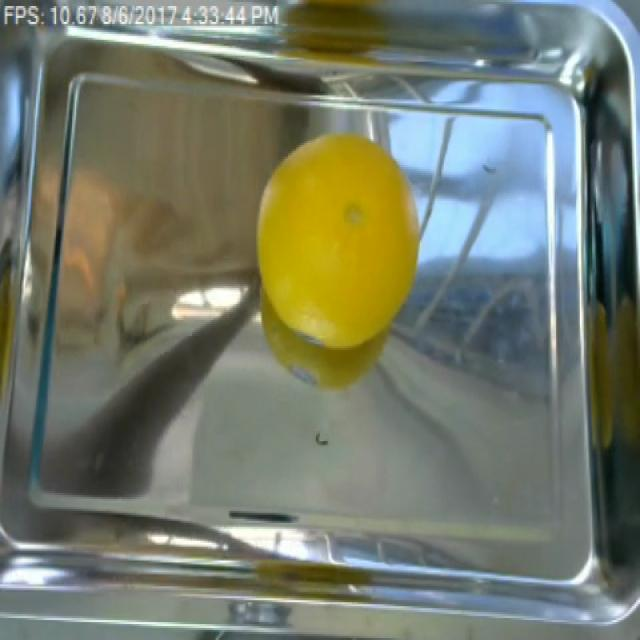Fruit: (251, 121, 429, 392)
